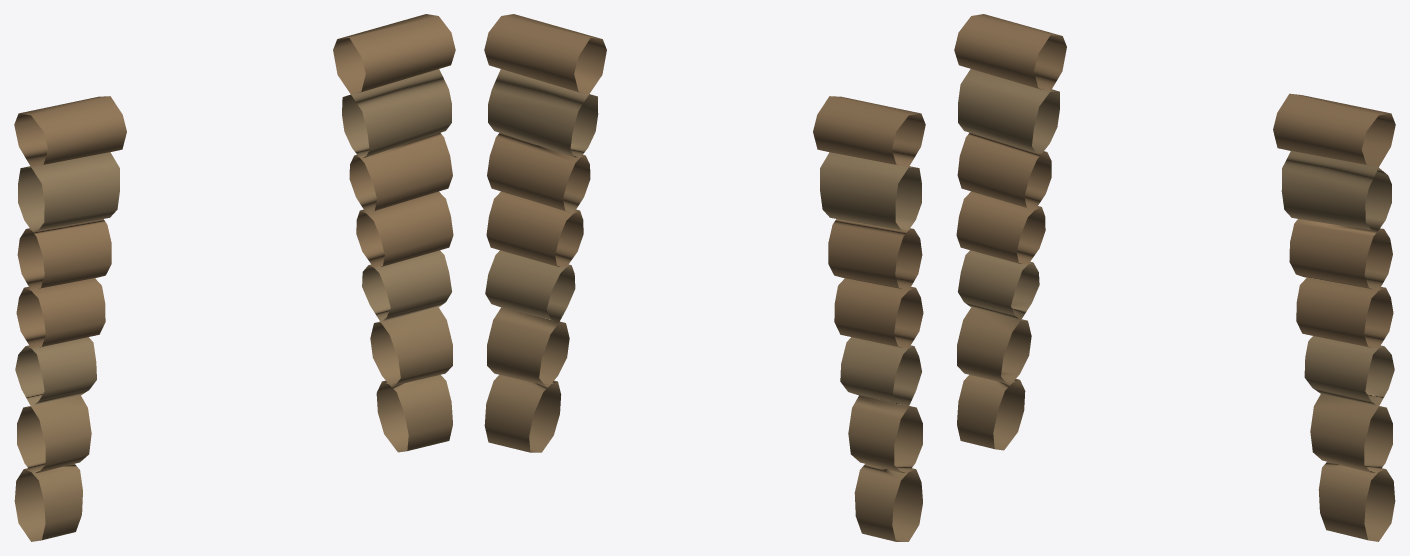
File: rpgpp_ag_wall_01_3x3_door_b.fbx
The picture shows the model from 3 angles, left to right: view 1: azimuth 30°, elevation 25°; view 2: azimuth 150°, elevation 25°; view 3: azimuth 330°, elevation 25°; orthographic projection.
Parts seen in each view (by area): view 1: rpgpp_ag_wall_01_3x3_door_b; view 2: rpgpp_ag_wall_01_3x3_door_b; view 3: rpgpp_ag_wall_01_3x3_door_b.
Part boxes in pixels (x1,y1,x2,y2): rpgpp_ag_wall_01_3x3_door_b: [14, 14, 455, 541]; rpgpp_ag_wall_01_3x3_door_b: [484, 14, 925, 541]; rpgpp_ag_wall_01_3x3_door_b: [954, 14, 1395, 541].
Size of the model in its own units: 3 by 3 by 0.4336.
